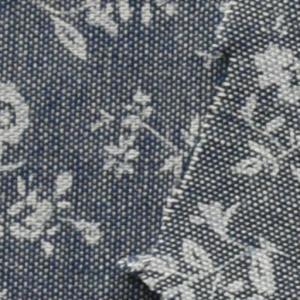Damage: (112, 1, 300, 300)
